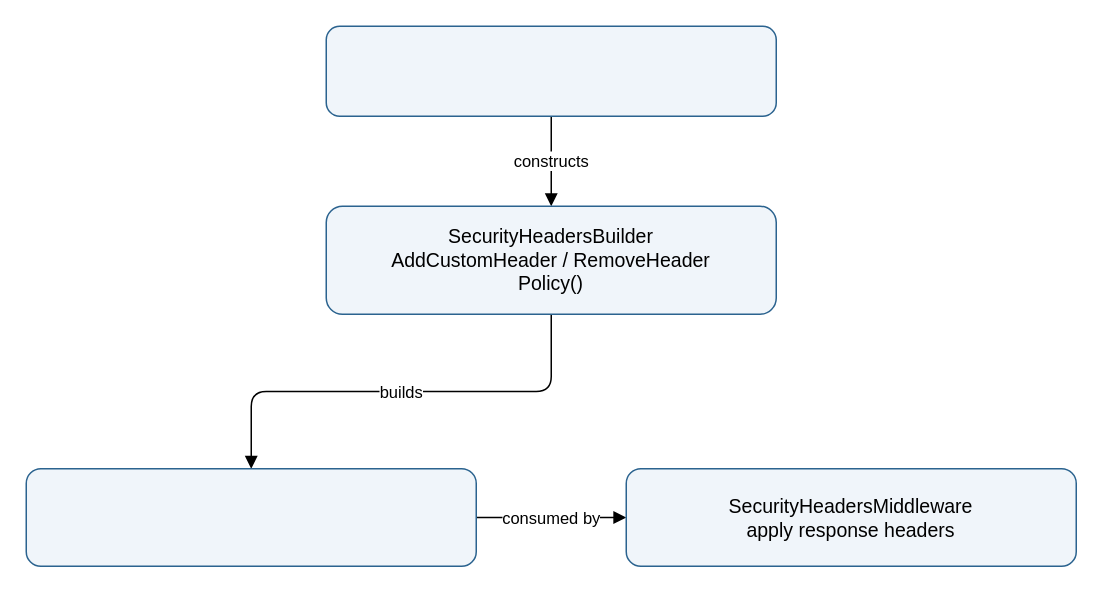
The diagram is 1103 pixels wide and 593 high, and some of its shapes have lost their labels. The shapes that lost their labels are listed below. From the top down, each one's centre as x and y in pixels, then its label:
At (x=550, y=70): "Startup.Configure select secure defaults".
At (x=250, y=516): "SecurityHeadersPolicy HeadersToSet / HeadersToRemove".
